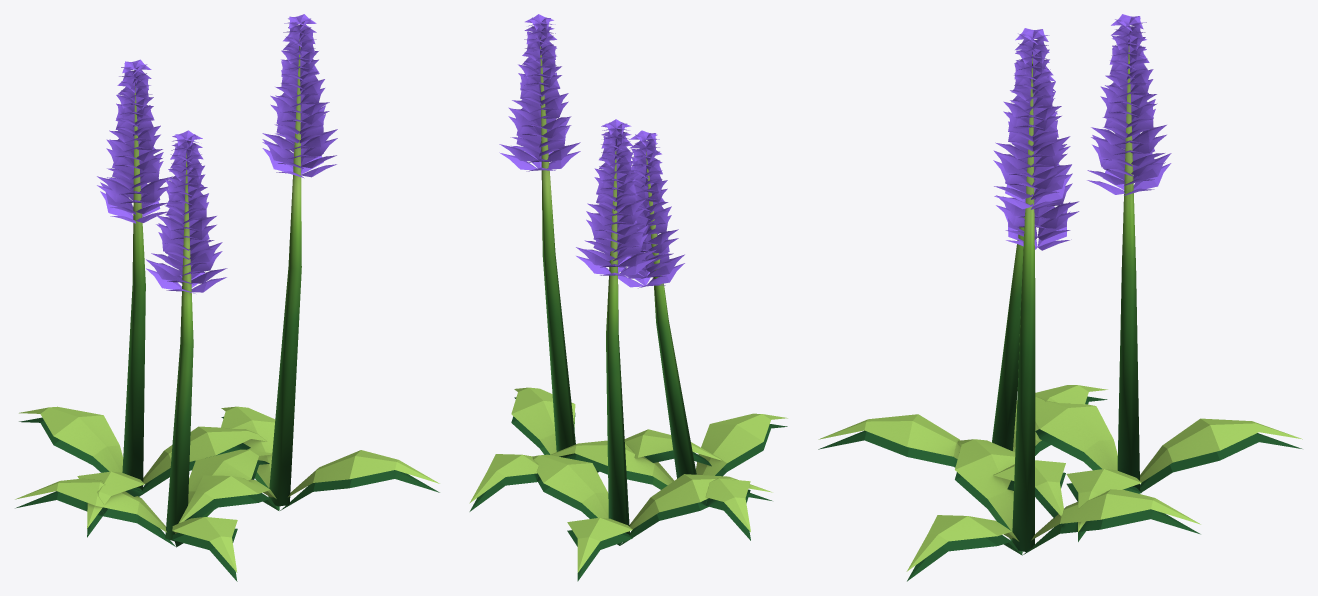
File: Env_Flowers_4.glb
3 renders of one model, left to right at view 1: azimuth 30°, elevation 25°; view 2: azimuth 150°, elevation 25°; view 3: azimuth 270°, elevation 25°, orthographic. The views are drawn at different scales.
Parts seen in each view (by area): view 1: Env_Flowers_4.001; view 2: Env_Flowers_4.001; view 3: Env_Flowers_4.001.
Part boxes in pixels (x1,y1,x2,y2): Env_Flowers_4.001: (15, 14, 439, 581); Env_Flowers_4.001: (469, 14, 787, 581); Env_Flowers_4.001: (818, 14, 1302, 581).
Bounding box in the file's own units: 1.16 × 1.6 × 1.31.
Materials: 1 (1 with a texture image).
